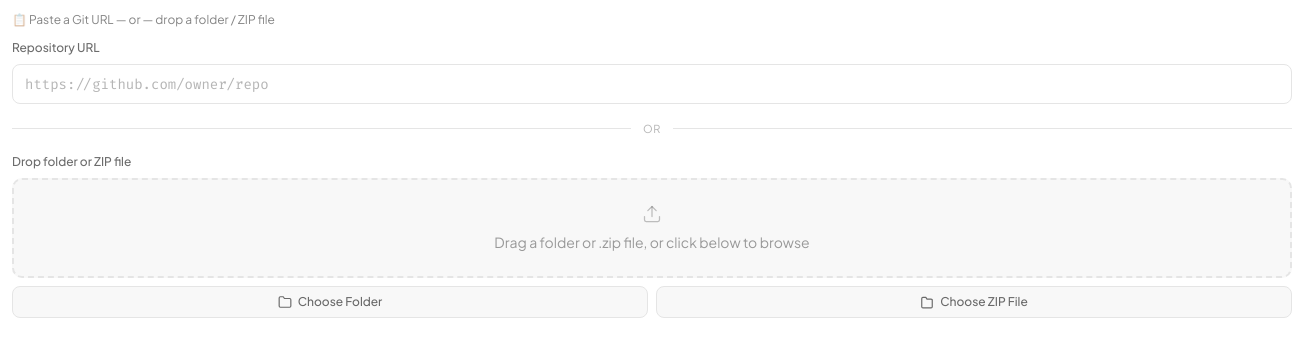
Test case: SourceInput › clears selection when Clear button is clicked
Type "https://github.com/user/repo" into the field with placeholder "https://github.com/owner/repo" at (652, 84), box [12,64,1292,104]
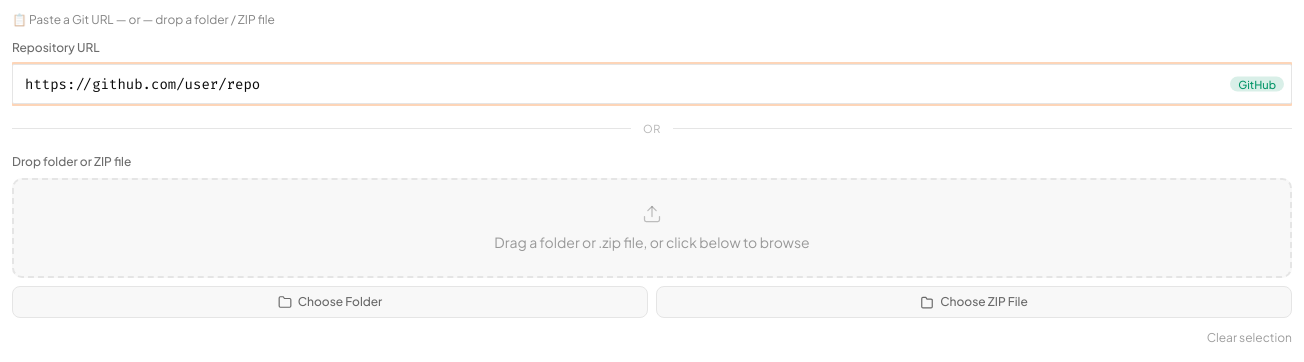
Check: the button "Clear selection" is shown
Click the button "Clear selection" at (1249, 338), box [1207,330,1292,346]
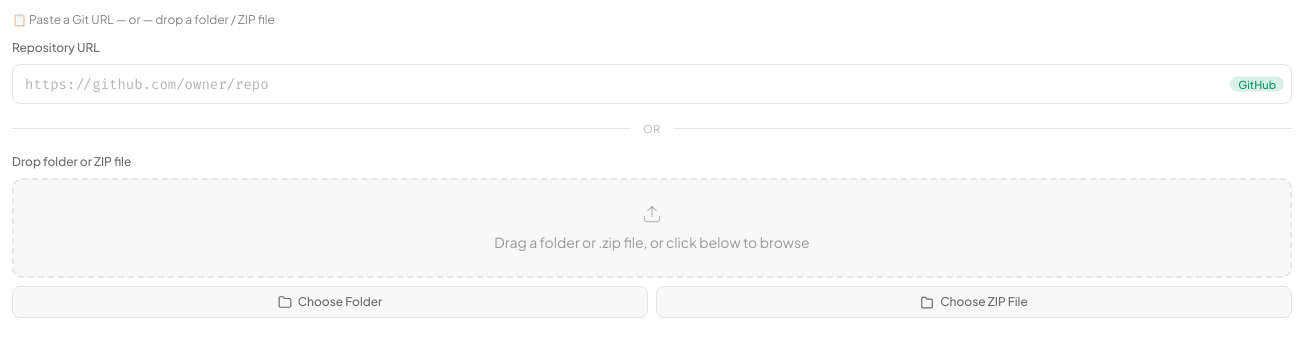
Check: the field with placeholder "https://github.com/owner/repo" is empty, box [12,64,1292,104]
